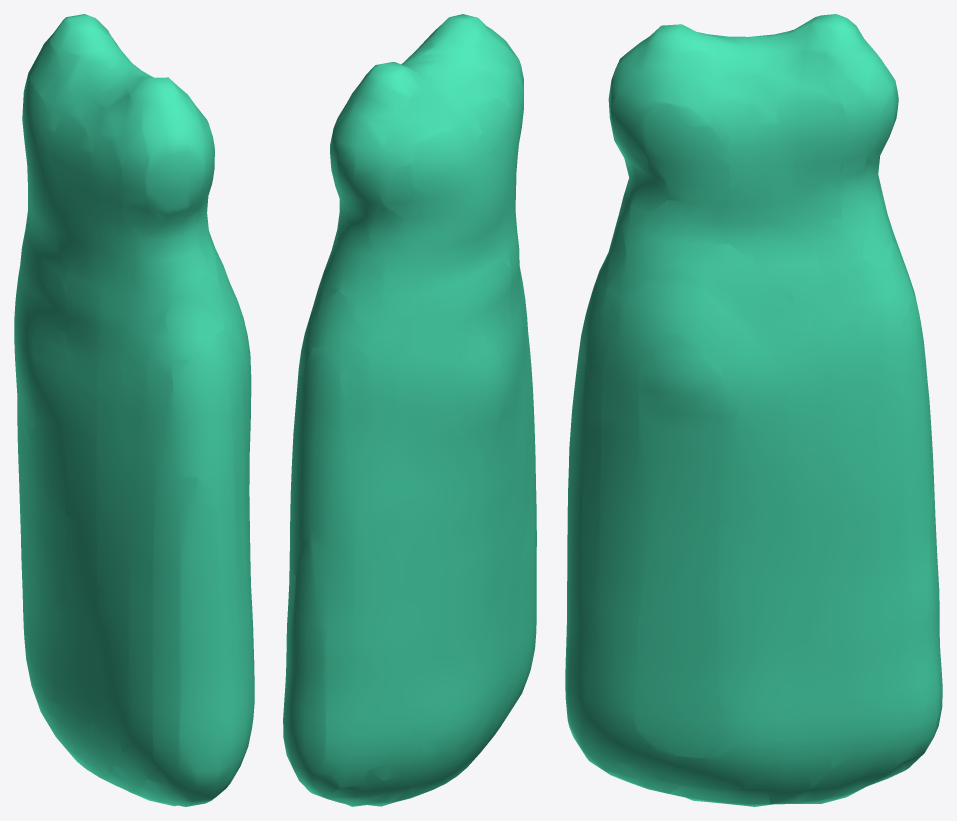
The picture shows the model from 3 angles, left to right: view 1: azimuth 30°, elevation 25°; view 2: azimuth 150°, elevation 25°; view 3: azimuth 270°, elevation 25°; orthographic projection. The views are drawn at different scales.
Parts seen in each view (by area): view 1: Liquid_Domain; view 2: Liquid_Domain; view 3: Liquid_Domain.
Part boxes in pixels (x1,y1,x2,y2): Liquid_Domain: (14, 14, 254, 806); Liquid_Domain: (283, 14, 536, 806); Liquid_Domain: (565, 14, 942, 806).
Size of the model in its own units: 1.4 by 5.53 by 2.47.
